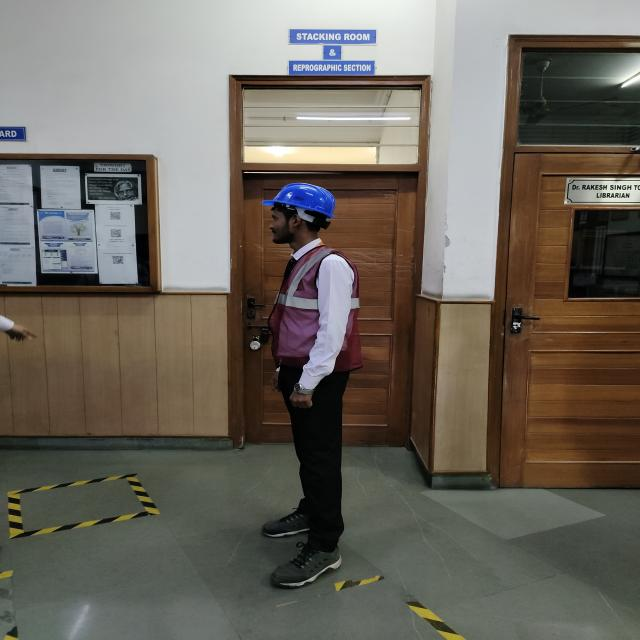safe: (261, 182, 358, 588)
